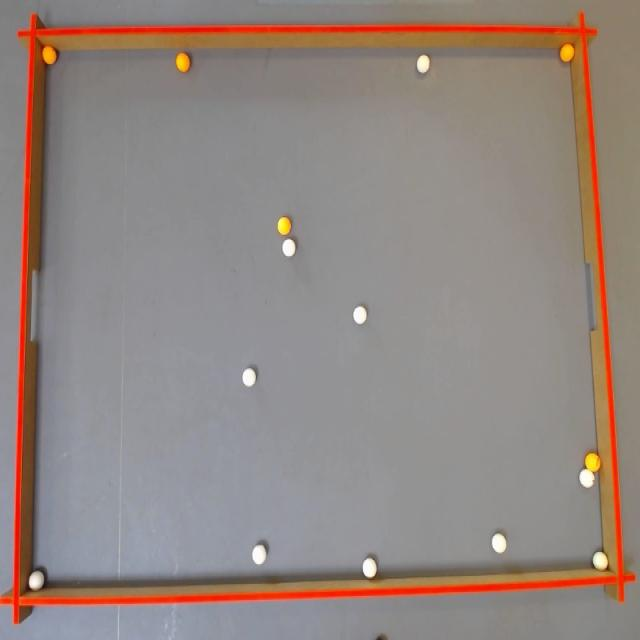orange_ball: (584, 452, 600, 472), (42, 46, 57, 64), (560, 43, 574, 62), (176, 53, 190, 72), (278, 217, 290, 234)
white_ball: (28, 570, 45, 591), (362, 557, 377, 579), (592, 551, 608, 571), (252, 544, 267, 565), (579, 469, 595, 488), (492, 533, 506, 554), (242, 368, 256, 387), (416, 54, 429, 74), (282, 238, 296, 256), (353, 306, 366, 324)
